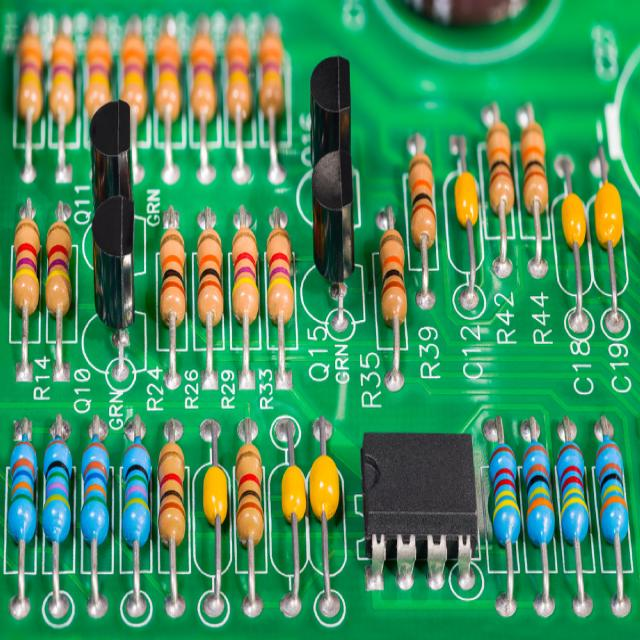IC: (360, 415, 480, 600)
resistor: (151, 425, 189, 593), (592, 420, 631, 562), (78, 437, 115, 586), (117, 435, 153, 585), (518, 431, 556, 573), (233, 436, 267, 584), (555, 431, 590, 570), (152, 214, 186, 356), (488, 429, 520, 578), (380, 202, 413, 344), (230, 206, 262, 351), (262, 212, 296, 345), (37, 438, 70, 574), (480, 105, 514, 237), (11, 202, 40, 350), (10, 435, 40, 572), (408, 141, 439, 270), (197, 210, 224, 349), (50, 210, 74, 361), (520, 110, 549, 234)
transistor: (87, 196, 146, 385), (307, 154, 361, 324), (87, 98, 140, 223), (306, 51, 354, 178)
